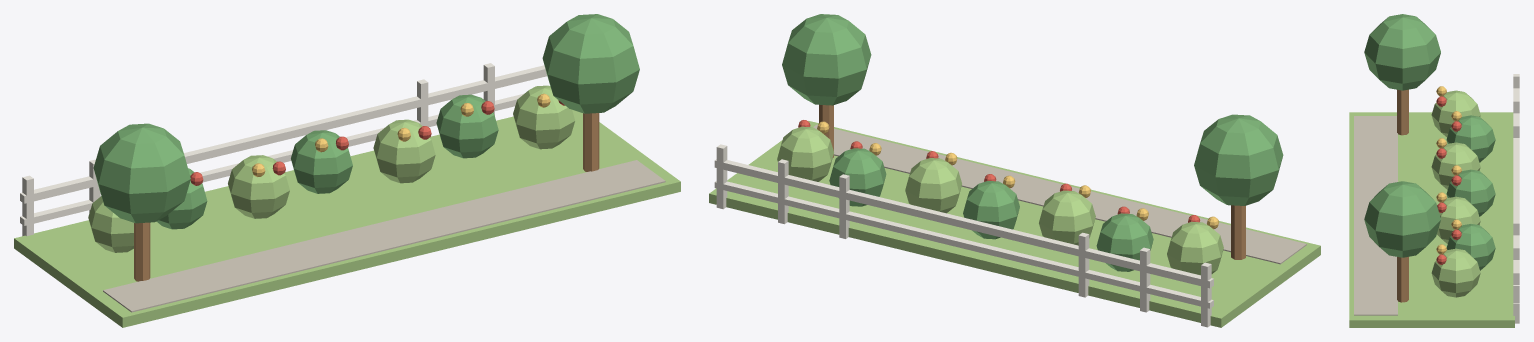
The model's file is foreground-garden-BvHEHJnm.glb.
3 views of the same model, side by side, from view 1: azimuth 30°, elevation 25°; view 2: azimuth 150°, elevation 25°; view 3: azimuth 270°, elevation 25° (orthographic). The views are drawn at different scales.
Parts seen in each view (by area): view 1: Foreground_Garden_Bed, Foreground_Path, Foreground_SmallTree_Crown_-3.7, Foreground_SmallTree_Crown_3.7, Foreground_Fence_Rail_Top, Foreground_Shrub_3, Foreground_Shrub_2, Foreground_Shrub_4, Foreground_Shrub_5, Foreground_Shrub_6, Foreground_Fence_Rail_Bottom, Foreground_Shrub_0 (+5 smaller); view 2: Foreground_Garden_Bed, Foreground_Path, Foreground_SmallTree_Crown_-3.7, Foreground_SmallTree_Crown_3.7, Foreground_Fence_Rail_Top, Foreground_Fence_Rail_Bottom, Foreground_Shrub_4, Foreground_Shrub_2, Foreground_Shrub_6, Foreground_Shrub_0, Foreground_Shrub_3, Foreground_Shrub_1 (+8 smaller); view 3: Foreground_Garden_Bed, Foreground_Path, Foreground_SmallTree_Crown_3.7, Foreground_SmallTree_Crown_-3.7, Foreground_Shrub_6, Foreground_Shrub_1, Foreground_Shrub_3, Foreground_Shrub_5, Foreground_Shrub_2, Foreground_Shrub_0, Foreground_Shrub_4, Foreground_Fence_Rail_Top (+3 smaller).
Boxes of the visible parts, x1=… form: Foreground_Garden_Bed: x1=14, y1=110, x2=680, y2=327; Foreground_Path: x1=103, y1=160, x2=665, y2=312; Foreground_SmallTree_Crown_-3.7: x1=93, y1=123, x2=190, y2=223; Foreground_SmallTree_Crown_3.7: x1=542, y1=14, x2=639, y2=113; Foreground_Fence_Rail_Top: x1=20, y1=65, x2=547, y2=203; Foreground_Shrub_3: x1=291, y1=130, x2=352, y2=193; Foreground_Shrub_2: x1=228, y1=155, x2=289, y2=218; Foreground_Shrub_4: x1=373, y1=119, x2=435, y2=183; Foreground_Shrub_5: x1=436, y1=94, x2=498, y2=158; Foreground_Shrub_6: x1=513, y1=85, x2=574, y2=149; Foreground_Fence_Rail_Bottom: x1=20, y1=93, x2=523, y2=225; Foreground_Shrub_0: x1=88, y1=196, x2=133, y2=252; Foreground_Garden_Bed: x1=709, y1=121, x2=1320, y2=327; Foreground_Path: x1=813, y1=124, x2=1306, y2=264; Foreground_SmallTree_Crown_-3.7: x1=1194, y1=114, x2=1283, y2=205; Foreground_SmallTree_Crown_3.7: x1=782, y1=14, x2=871, y2=105; Foreground_Fence_Rail_Top: x1=714, y1=159, x2=1213, y2=288; Foreground_Fence_Rail_Bottom: x1=714, y1=181, x2=1213, y2=308; Foreground_Shrub_4: x1=905, y1=158, x2=961, y2=213; Foreground_Shrub_2: x1=1039, y1=190, x2=1095, y2=245; Foreground_Shrub_6: x1=777, y1=126, x2=833, y2=181; Foreground_Shrub_0: x1=1167, y1=221, x2=1223, y2=275; Foreground_Shrub_3: x1=963, y1=181, x2=1019, y2=239; Foreground_Shrub_1: x1=1096, y1=213, x2=1153, y2=271; Foreground_Garden_Bed: x1=1349, y1=112, x2=1514, y2=327; Foreground_Path: x1=1354, y1=116, x2=1397, y2=315; Foreground_SmallTree_Crown_3.7: x1=1364, y1=181, x2=1440, y2=257; Foreground_SmallTree_Crown_-3.7: x1=1364, y1=14, x2=1440, y2=90; Foreground_Shrub_6: x1=1431, y1=248, x2=1480, y2=297; Foreground_Shrub_1: x1=1446, y1=115, x2=1495, y2=162; Foreground_Shrub_3: x1=1446, y1=169, x2=1495, y2=216; Foreground_Shrub_5: x1=1446, y1=224, x2=1495, y2=270; Foreground_Shrub_2: x1=1431, y1=142, x2=1480, y2=189; Foreground_Shrub_0: x1=1431, y1=90, x2=1480, y2=137; Foreground_Shrub_4: x1=1437, y1=196, x2=1480, y2=243; Foreground_Fence_Rail_Top: x1=1513, y1=88, x2=1519, y2=291.
Bounding box in the file's own units: 9.2 × 2.54 × 3.19.
